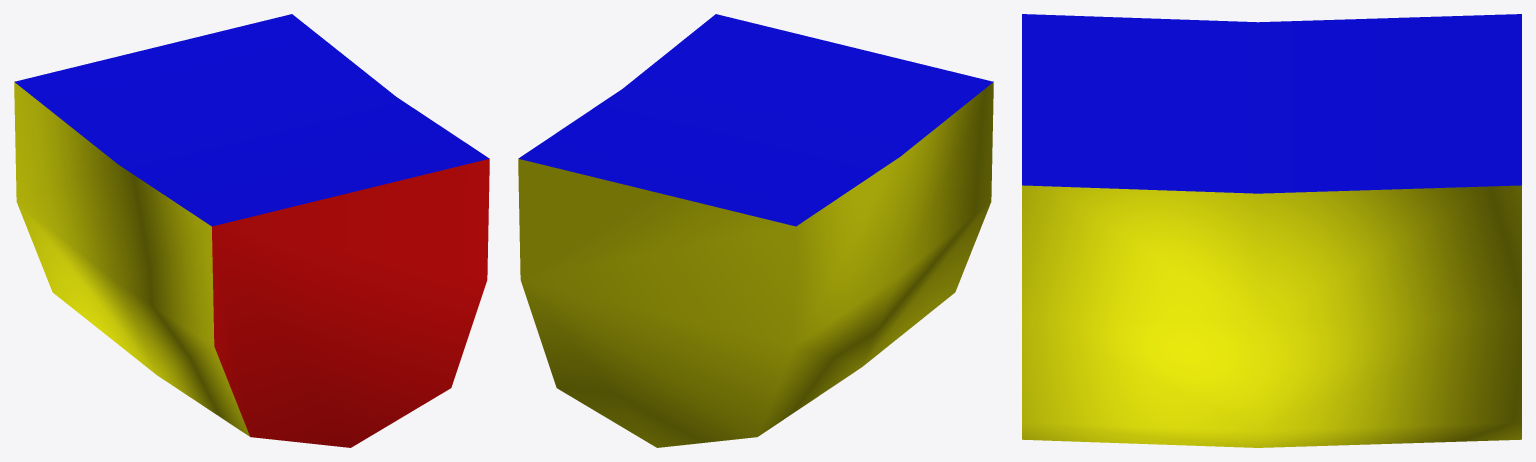
3 views of the same model, side by side, from view 1: azimuth 30°, elevation 25°; view 2: azimuth 150°, elevation 25°; view 3: azimuth 270°, elevation 25° (orthographic). The views are drawn at different scales.
Visible parts, largest first — view 1: polySurface136; view 2: polySurface136; view 3: polySurface136.
Boxes of the visible parts, left/top/right/bottom form: polySurface136: left=14, top=14, right=489, bottom=447; polySurface136: left=518, top=14, right=993, bottom=447; polySurface136: left=1022, top=14, right=1521, bottom=447.
Size of the model in its own units: 23.58 by 21.23 by 29.05.
